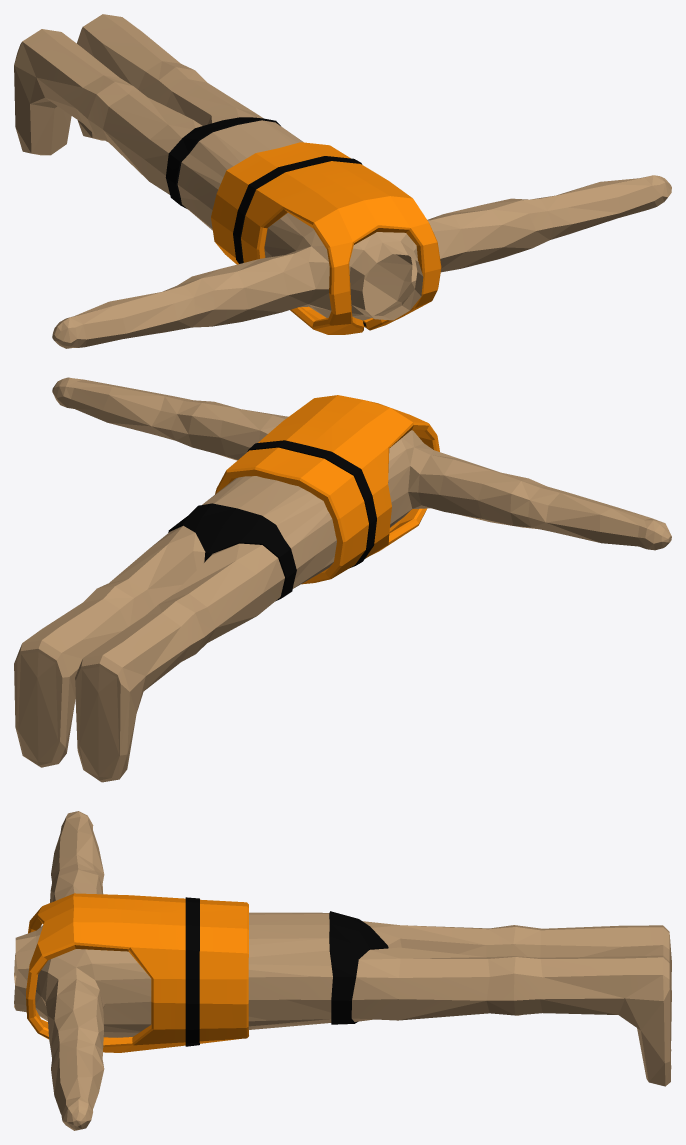
Rendered from LifeVest.glb.
3 views of the same model, one above another, from view 1: azimuth 30°, elevation 25°; view 2: azimuth 150°, elevation 25°; view 3: azimuth 270°, elevation 25° (orthographic).
Visible parts, largest first — view 1: LifeVest; view 2: LifeVest; view 3: LifeVest.
Part boxes in pixels (bbox=[...]): LifeVest: bbox=[14, 14, 671, 348]; LifeVest: bbox=[14, 377, 671, 782]; LifeVest: bbox=[14, 811, 671, 1130].
Size of the model in its own units: 1.21 by 0.3032 by 1.11.
1 material, 1 textured.
